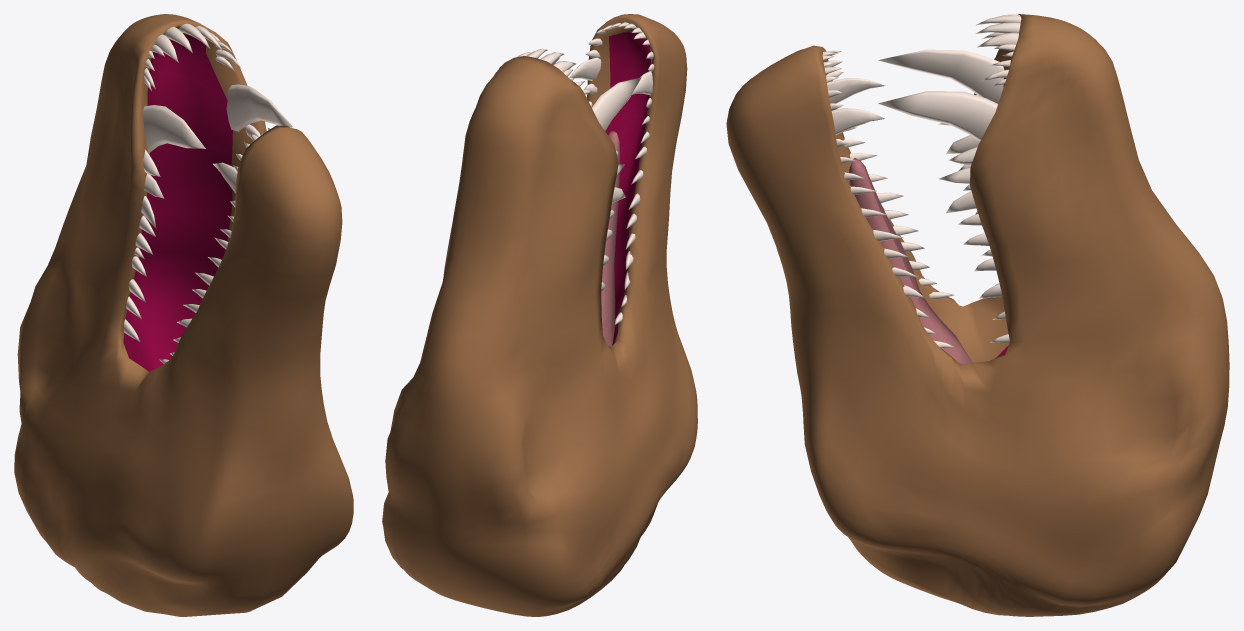
Rendered from Anteapzid.fbx.
The picture shows the model from 3 angles, left to right: view 1: azimuth 30°, elevation 25°; view 2: azimuth 150°, elevation 25°; view 3: azimuth 270°, elevation 25°; orthographic projection. The views are drawn at different scales.
Visible parts, largest first — view 1: Anteapzid - Poliostasis; view 2: Anteapzid - Poliostasis; view 3: Anteapzid - Poliostasis.
Part boxes in pixels (x1=…): Anteapzid - Poliostasis: x1=14, y1=14, x2=353, y2=616; Anteapzid - Poliostasis: x1=382, y1=14, x2=697, y2=616; Anteapzid - Poliostasis: x1=726, y1=14, x2=1229, y2=616.
Size of the model in its own units: 46.79 by 125 by 97.82.
